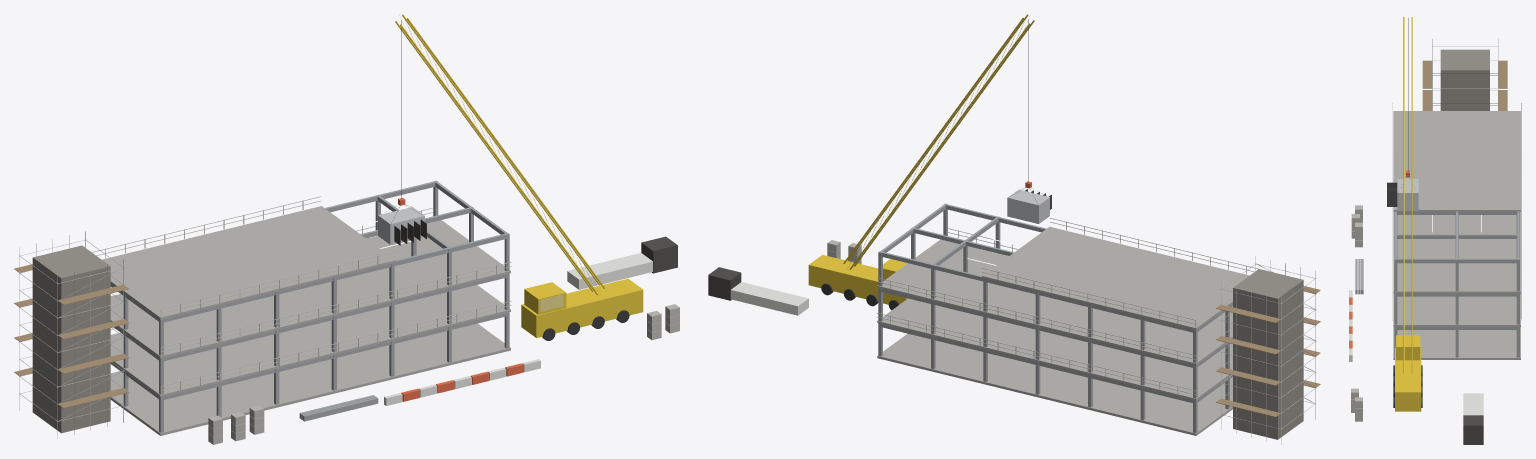
The model's file is deliver.glb.
3 renders of one model, left to right at view 1: azimuth 30°, elevation 25°; view 2: azimuth 150°, elevation 25°; view 3: azimuth 270°, elevation 25°, orthographic. The views are drawn at different scales.
Visible parts, largest first — view 1: B_slab, B_concrete, B_steelf, B_yellow, B_rail, B_white, B_tube, B_board, B_block, B_metal, B_unit, B_barrier (+1 smaller); view 2: B_slab, B_concrete, B_steelf, B_yellow, B_rail, B_tube, B_board, B_white, B_unit, B_metal, B_cable; view 3: B_slab, B_steelf, B_yellow, B_concrete, B_board, B_metal, B_block, B_unit, B_white, B_tube, B_rail, B_cable.
Boxes of the visible parts, bbox=[...] form: B_slab: bbox=[102, 206, 510, 435]; B_concrete: bbox=[32, 245, 110, 433]; B_steelf: bbox=[110, 180, 509, 432]; B_yellow: bbox=[395, 14, 643, 337]; B_rail: bbox=[92, 196, 511, 395]; B_white: bbox=[384, 253, 652, 405]; B_tube: bbox=[19, 231, 124, 438]; B_board: bbox=[14, 264, 129, 408]; B_block: bbox=[208, 304, 679, 444]; B_metal: bbox=[394, 219, 677, 273]; B_unit: bbox=[378, 207, 424, 244]; B_barrier: bbox=[398, 198, 523, 401]; B_slab: bbox=[877, 226, 1249, 435]; B_concrete: bbox=[1233, 269, 1303, 439]; B_steelf: bbox=[878, 203, 1232, 432]; B_yellow: bbox=[808, 14, 1034, 304]; B_rail: bbox=[876, 218, 1264, 398]; B_tube: bbox=[1220, 256, 1316, 444]; B_board: bbox=[1216, 286, 1320, 417]; B_white: bbox=[730, 282, 808, 315]; B_unit: bbox=[1007, 189, 1049, 223]; B_metal: bbox=[708, 189, 1051, 300]; B_cable: bbox=[821, 19, 1041, 310]; B_slab: bbox=[1393, 111, 1520, 359]; B_steelf: bbox=[1355, 211, 1519, 357]; B_yellow: bbox=[1395, 17, 1421, 411]; B_concrete: bbox=[1440, 49, 1489, 110]; B_board: bbox=[1422, 60, 1507, 110]; B_metal: bbox=[1387, 182, 1483, 444]; B_block: bbox=[1351, 205, 1362, 421]; B_unit: bbox=[1397, 178, 1418, 210]; B_white: bbox=[1349, 290, 1483, 415]; B_tube: bbox=[1432, 39, 1498, 110]; B_rail: bbox=[1392, 103, 1521, 320]; B_cable: bbox=[1393, 18, 1422, 407].
Bounding box in the file's own units: 77.6 × 41 × 21.15.
